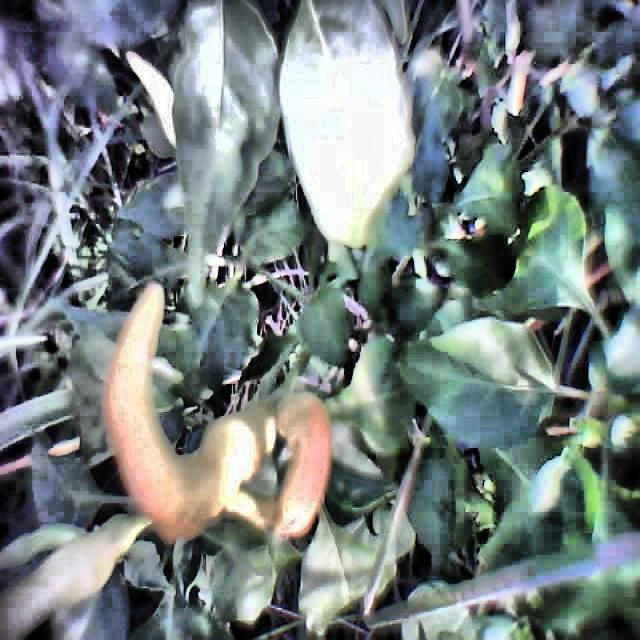Cabai: (103, 274, 332, 567)
